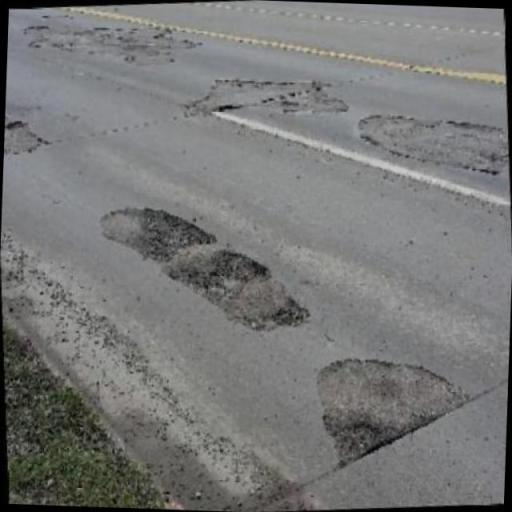pothole: (316, 358, 470, 471), (167, 250, 308, 328), (358, 115, 508, 172), (100, 206, 215, 264), (29, 26, 202, 62), (195, 79, 349, 115), (3, 121, 51, 152)
